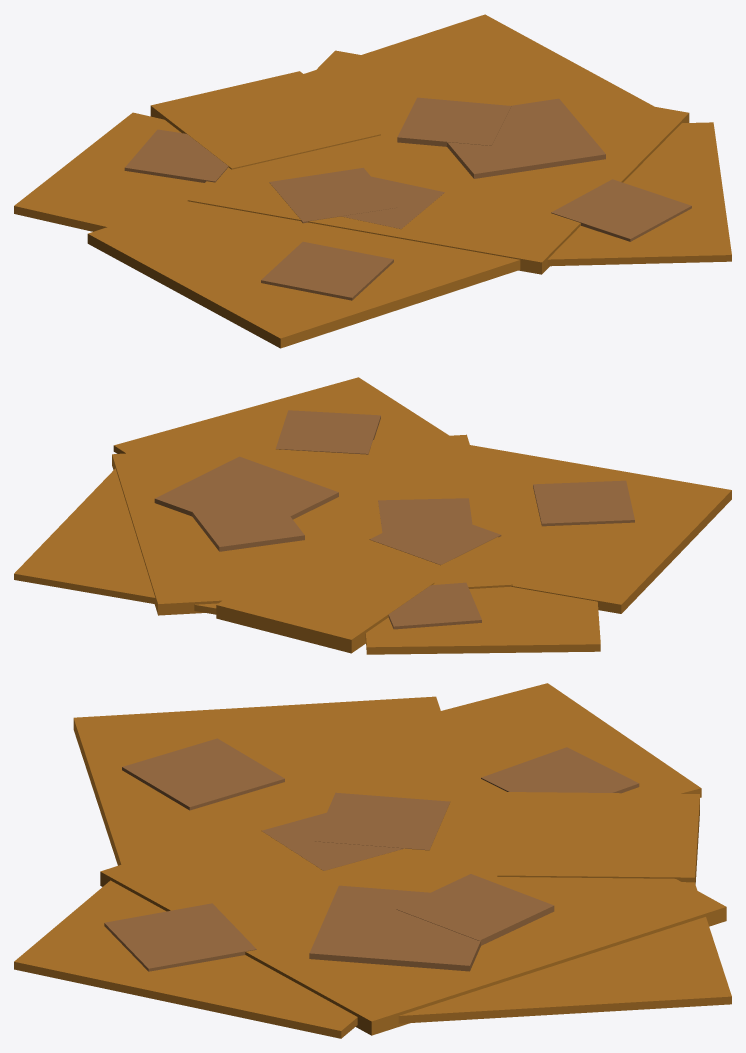
Rendered from path_segment.glb.
The picture shows the model from 3 angles, top to bottom: view 1: azimuth 30°, elevation 25°; view 2: azimuth 150°, elevation 25°; view 3: azimuth 270°, elevation 25°; orthographic projection. The views are drawn at different scales.
Visible parts, largest first — view 1: Cube, Cube.001, Cube.003, Cube.011, Cube.002, Cube.010, Cube.004, Cube.005, Cube.012, Cube.008, Cube.006, Cube.007 (+1 smaller); view 2: Cube, Cube.001, Cube.003, Cube.002, Cube.010, Cube.011, Cube.004, Cube.005, Cube.006, Cube.008, Cube.012, Cube.007 (+1 smaller); view 3: Cube, Cube.001, Cube.011, Cube.003, Cube.010, Cube.002, Cube.004, Cube.005, Cube.012, Cube.008, Cube.006, Cube.007 (+1 smaller).
Boxes of the visible parts, x1,y1,x2,y2 form: Cube: (187,50,689,274); Cube.001: (87,201,520,348); Cube.003: (150,71,380,169); Cube.011: (547,122,731,266); Cube.002: (14,112,204,231); Cube.010: (304,14,653,106); Cube.004: (447,98,605,178); Cube.005: (261,241,393,300); Cube.012: (551,179,691,241); Cube.008: (269,167,397,223); Cube.006: (397,97,511,146); Cube.007: (124,129,228,182); Cube: (112,434,512,615); Cube.001: (470,445,731,613); Cube.003: (216,548,434,653); Cube.002: (365,586,600,654); Cube.010: (14,468,217,614); Cube.011: (113,377,448,453); Cube.004: (154,456,338,519); Cube.005: (533,480,634,526); Cube.006: (192,499,304,551); Cube.008: (369,509,501,565); Cube.012: (275,410,380,454); Cube.007: (388,582,481,629); Cube: (100,757,726,1035); Cube.001: (73,696,455,865); Cube.011: (14,880,357,1038); Cube.003: (497,792,699,884); Cube.010: (398,882,731,1023); Cube.002: (441,683,701,797); Cube.004: (309,885,480,971); Cube.005: (122,738,284,810); Cube.012: (104,903,256,971); Cube.008: (314,792,450,850); Cube.006: (396,874,554,945); Cube.007: (481,747,639,793).
Size of the model in its own units: 3.34 by 0.1173 by 2.92.
